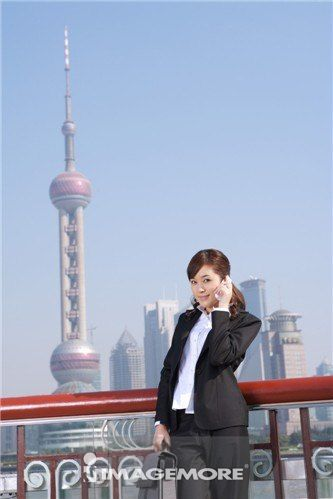talk: (192, 273, 236, 309)
